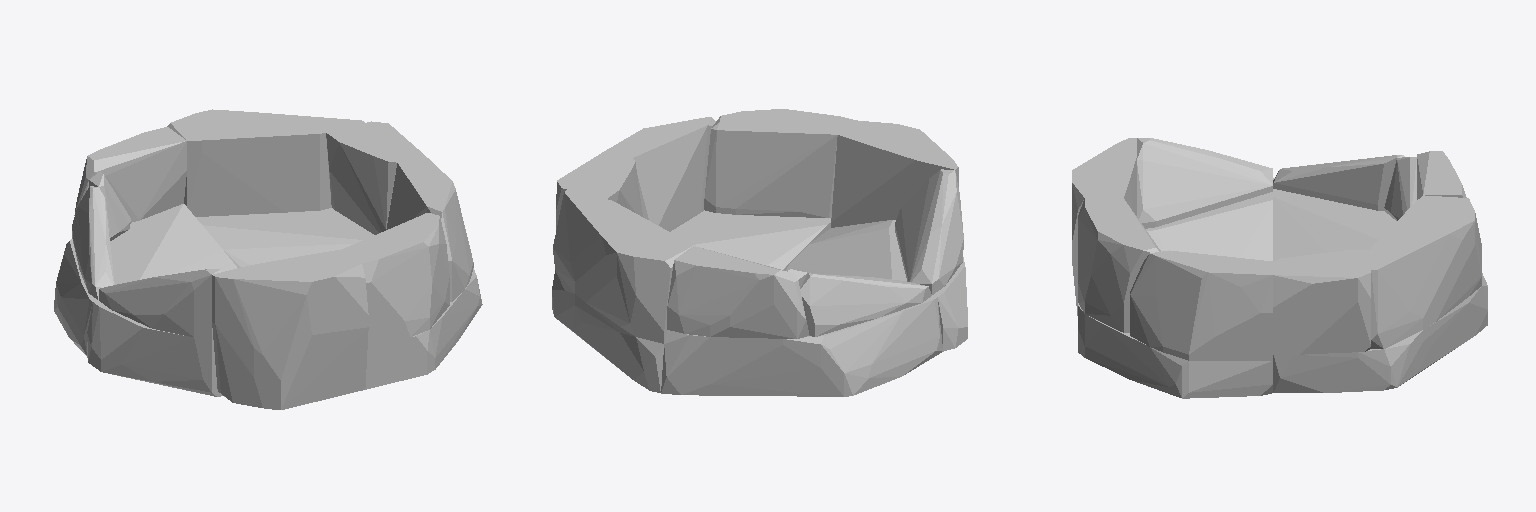
Rendered from Bowl_decimated.obj.
The picture shows the model from 3 angles: view 1: azimuth 30°, elevation 25°; view 2: azimuth 150°, elevation 25°; view 3: azimuth 270°, elevation 25°; orthographic projection.
Visible parts, largest first — view 1: convex_2, convex_5, convex_9, convex_0, convex_7, convex_6, convex_4, convex_1, convex_8, convex_10, convex_3, convex_11 (+1 smaller); view 2: convex_0, convex_9, convex_5, convex_4, convex_2, convex_10, convex_7, convex_8, convex_3, convex_11, convex_1, convex_6; view 3: convex_10, convex_5, convex_6, convex_1, convex_8, convex_3, convex_9, convex_0, convex_7, convex_11, convex_2, convex_4 (+1 smaller).
Part boxes in pixels (bbox=[...]): convex_2: bbox=[212, 249, 368, 409]; convex_5: bbox=[167, 109, 364, 216]; convex_9: bbox=[343, 213, 449, 347]; convex_0: bbox=[54, 204, 236, 355]; convex_7: bbox=[87, 301, 222, 396]; convex_6: bbox=[326, 121, 424, 234]; convex_4: bbox=[74, 127, 186, 222]; convex_1: bbox=[196, 208, 373, 267]; convex_8: bbox=[99, 269, 222, 339]; convex_10: bbox=[386, 156, 473, 301]; convex_3: bbox=[365, 268, 482, 389]; convex_11: bbox=[72, 186, 114, 300]; convex_0: bbox=[661, 296, 942, 396]; convex_9: bbox=[704, 109, 856, 217]; convex_5: bbox=[553, 190, 692, 343]; convex_4: bbox=[667, 246, 809, 338]; convex_2: bbox=[831, 120, 958, 227]; convex_10: bbox=[606, 117, 715, 231]; convex_7: bbox=[785, 220, 967, 351]; convex_8: bbox=[895, 169, 963, 294]; convex_3: bbox=[671, 210, 830, 269]; convex_11: bbox=[800, 273, 931, 336]; convex_1: bbox=[552, 270, 663, 392]; convex_6: bbox=[556, 151, 642, 229]; convex_10: bbox=[1130, 250, 1272, 360]; convex_5: bbox=[1371, 195, 1481, 348]; convex_6: bbox=[1273, 250, 1370, 354]; convex_1: bbox=[1273, 273, 1487, 392]; convex_8: bbox=[1137, 138, 1272, 228]; convex_3: bbox=[1078, 303, 1272, 398]; convex_9: bbox=[1078, 198, 1160, 332]; convex_0: bbox=[1273, 178, 1396, 260]; convex_7: bbox=[1146, 192, 1272, 260]; convex_11: bbox=[1273, 155, 1404, 210]; convex_2: bbox=[1072, 138, 1136, 315]; convex_4: bbox=[1417, 151, 1466, 199].
Bounding box in the file's own units: 40.88 × 13.63 × 41.53.